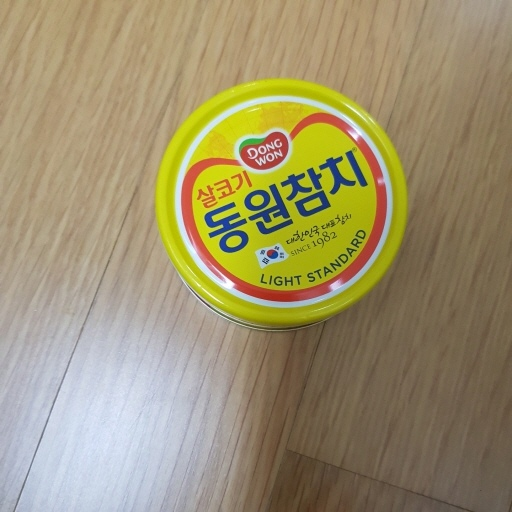Metal_1: (147, 78, 409, 329)
